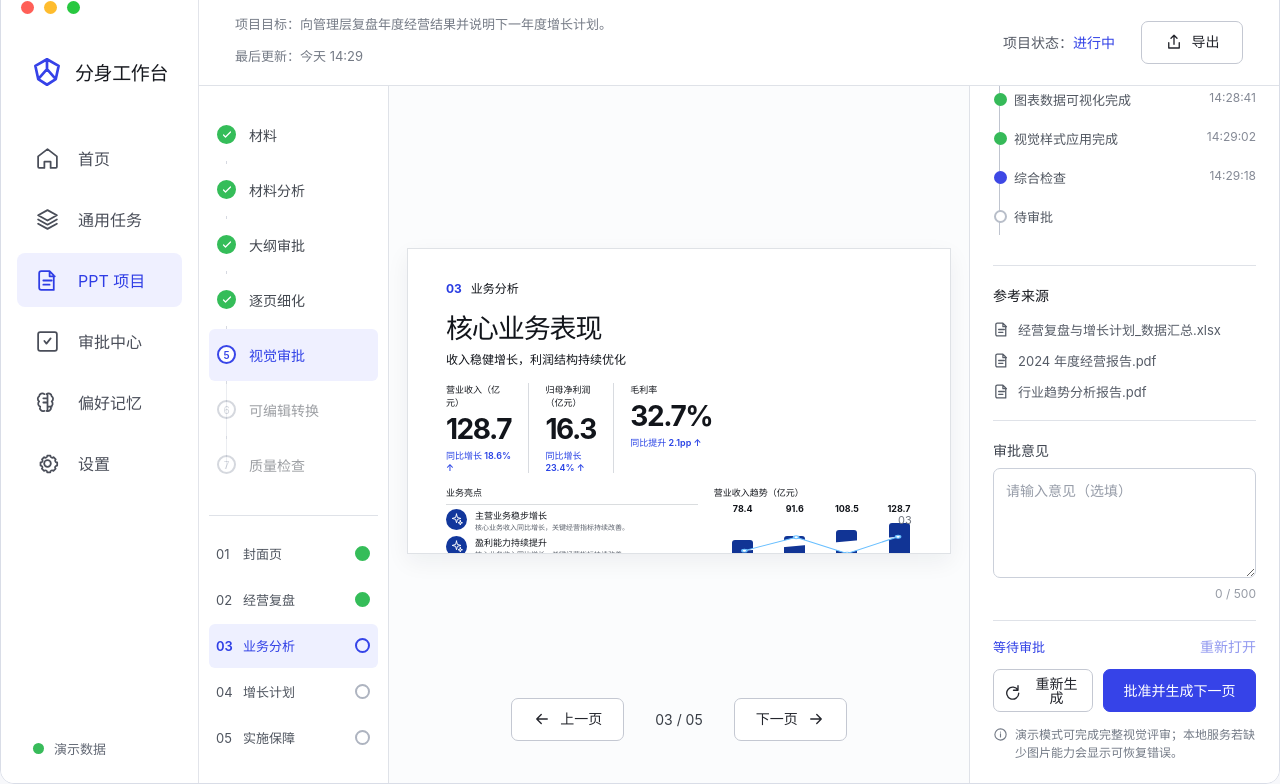
Test case: desktop workbench interactions › keeps the final approval on page five and advances to conversion
(page scrolled)
Click the button "批准并生成下一页" at (1179, 691), box [1103, 669, 1256, 712]
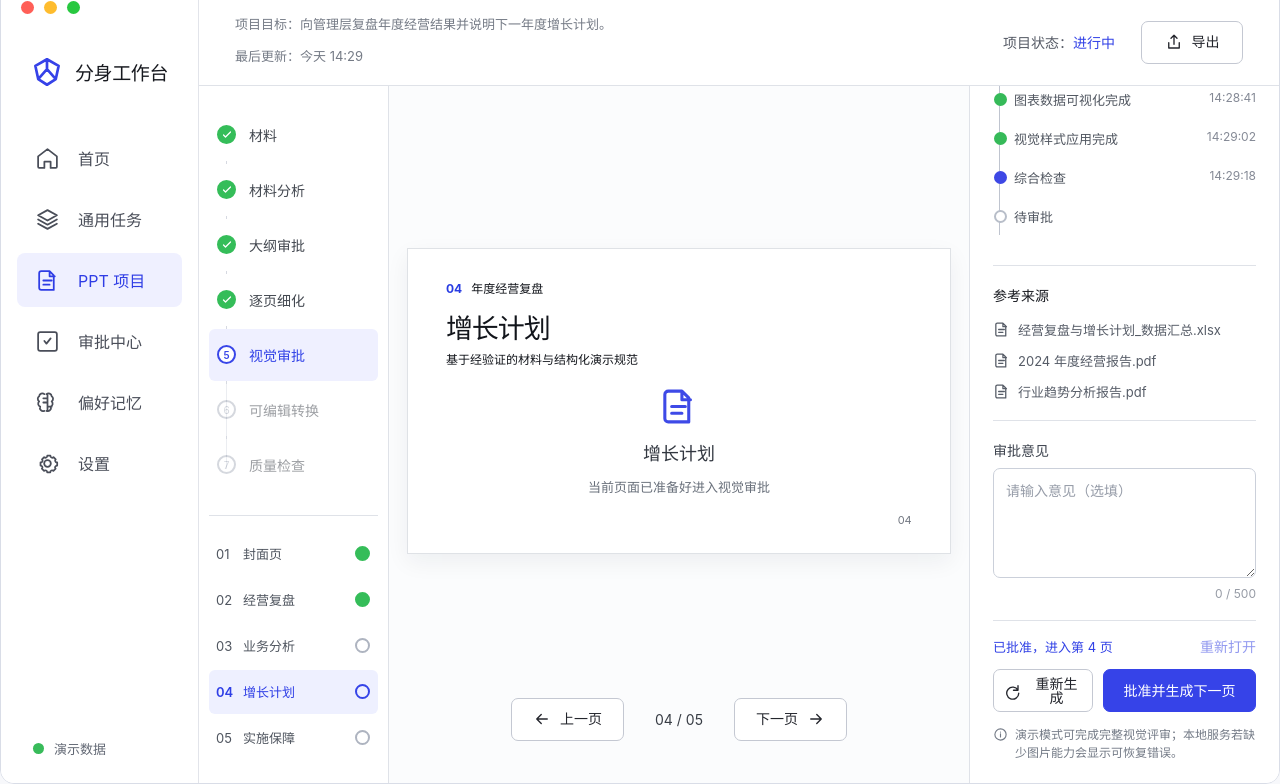
Expected: the text "已批准，进入第 4 页" is shown, [993, 637, 1113, 656]
Click the button "批准并生成下一页" at (1179, 691), box [1103, 669, 1256, 712]
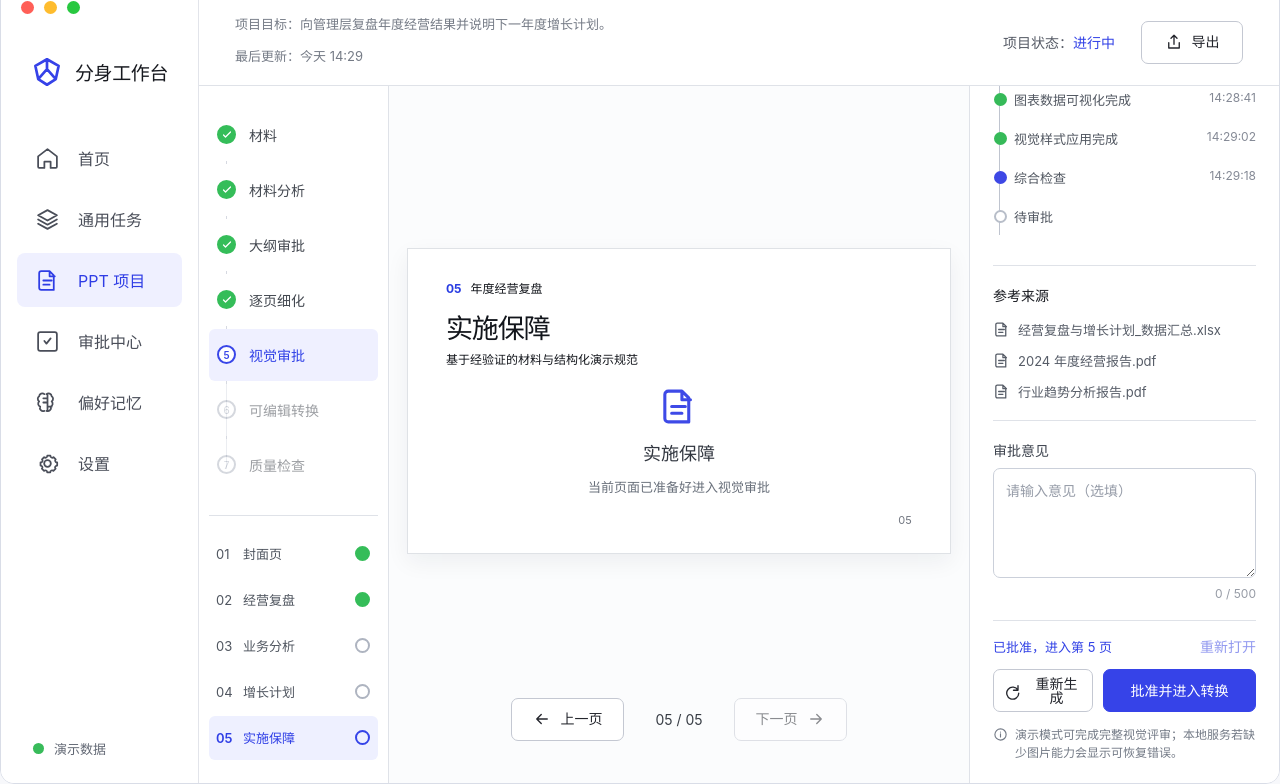
Expected: the text "已批准，进入第 5 页" is shown, [993, 637, 1112, 656]
Click the button "批准并进入转换" at (1179, 691), box [1103, 669, 1256, 712]
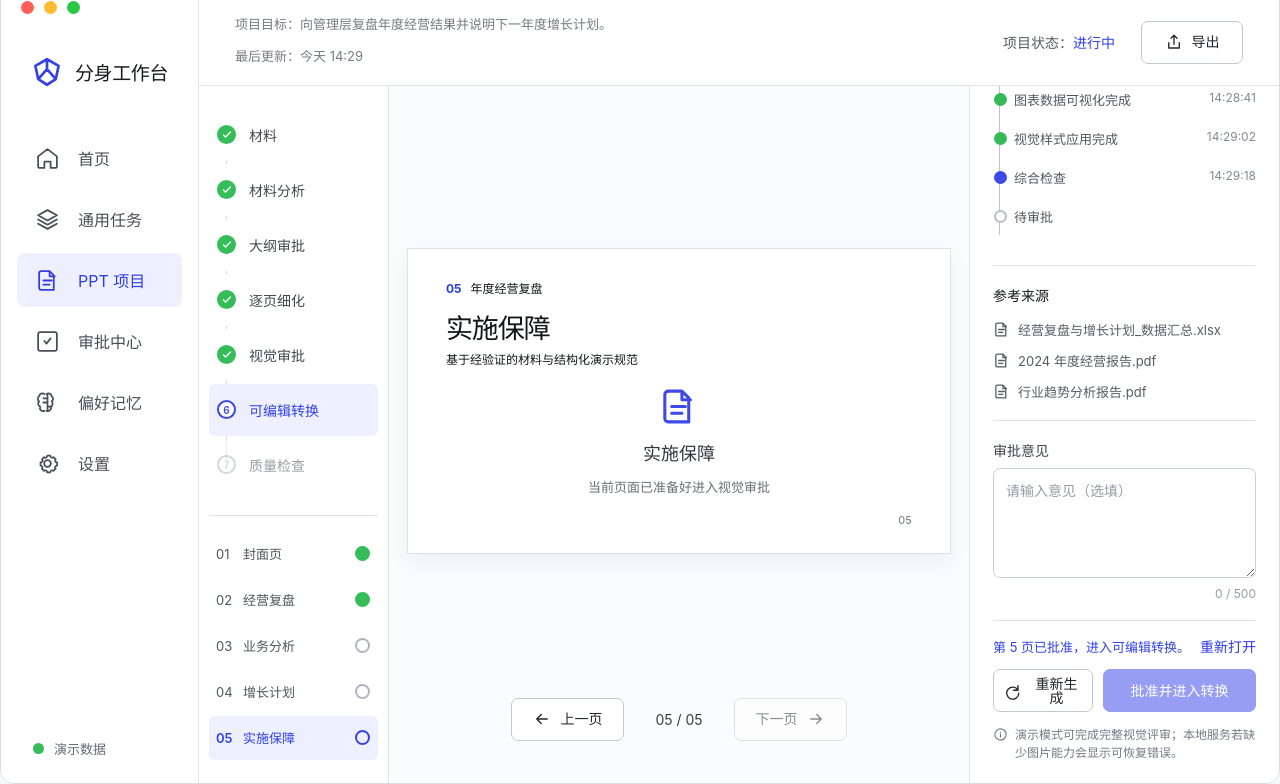
Expected: the text "05 / 05" is shown, [655, 711, 703, 728]
Expected: the text "第 5 页已批准，进入可编辑转换。" is shown, [993, 637, 1190, 656]
